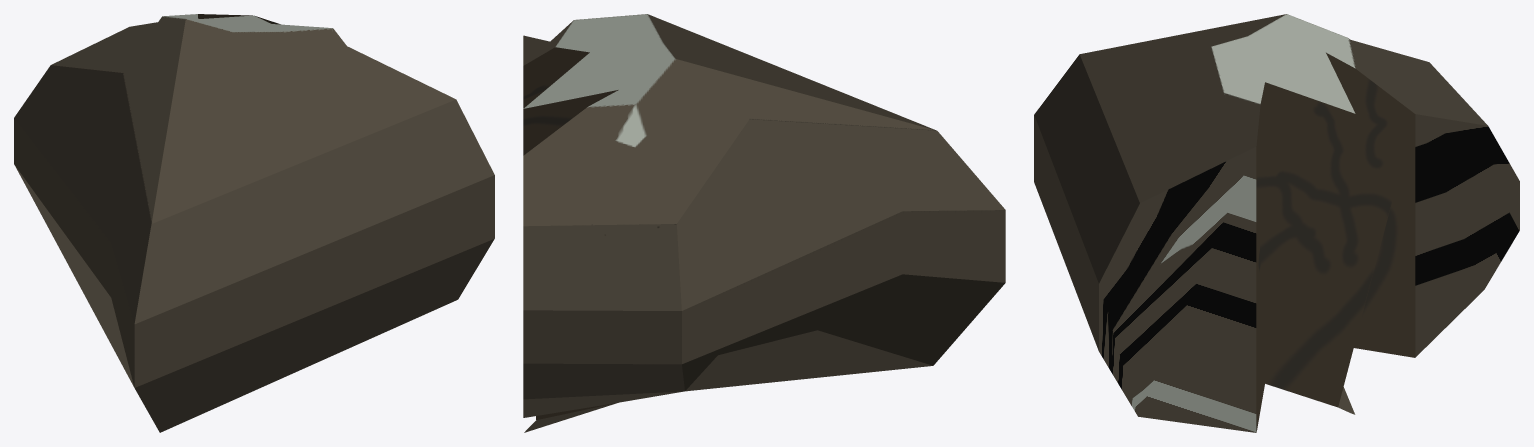
File: kapotteFossil3.glb
3 views of the same model, side by side, from view 1: azimuth 30°, elevation 25°; view 2: azimuth 150°, elevation 25°; view 3: azimuth 270°, elevation 25° (orthographic). The views are drawn at different scales.
Visible parts, largest first — view 1: Plane; view 2: Plane; view 3: Plane.
Boxes of the visible parts, x1,y1,x2,y2 form: Plane: (14, 14, 494, 432); Plane: (523, 14, 1005, 432); Plane: (1034, 14, 1519, 432).
Bounding box in the file's own units: 1.65 × 1.32 × 1.66.
1 material, 1 textured.
